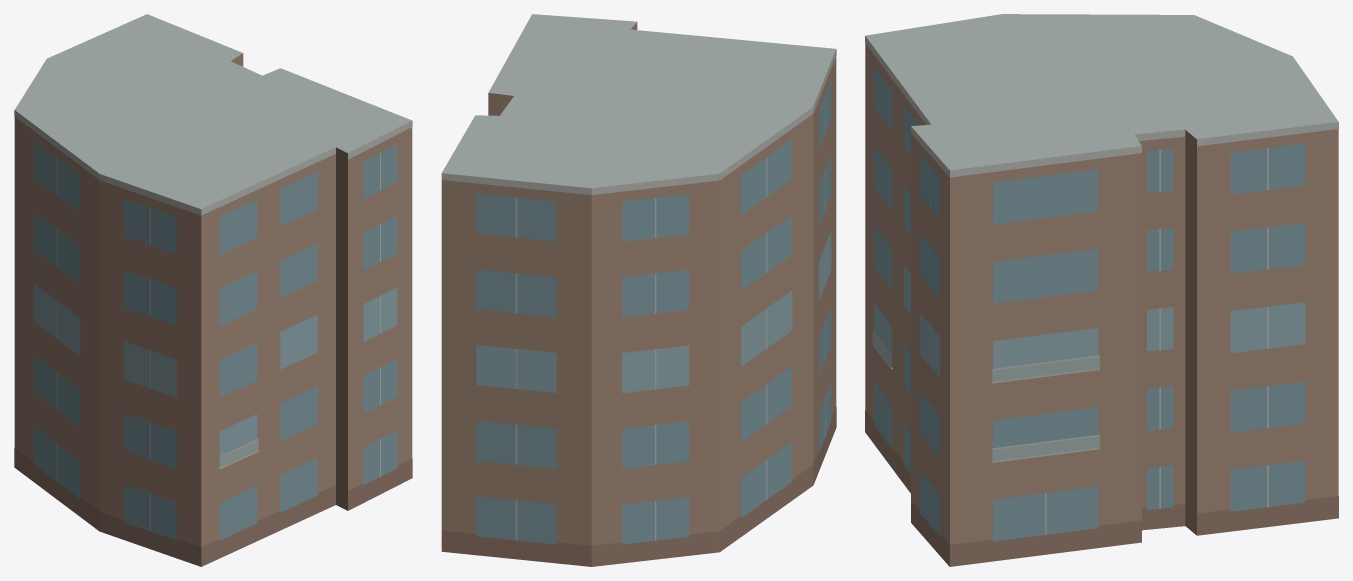
Rendered from survey-upis-32496900.glb.
The picture shows the model from 3 angles, left to right: view 1: azimuth 30°, elevation 25°; view 2: azimuth 150°, elevation 25°; view 3: azimuth 270°, elevation 25°; orthographic projection. The views are drawn at different scales.
Parts seen in each view (by area): view 1: survey-upis-32496900.tmp; view 2: survey-upis-32496900.tmp; view 3: survey-upis-32496900.tmp.
Boxes of the visible parts, x1,y1,x2,y2 form: survey-upis-32496900.tmp: (14, 14, 412, 566); survey-upis-32496900.tmp: (441, 14, 836, 566); survey-upis-32496900.tmp: (865, 14, 1338, 566).
Size of the model in its own units: 11.56 by 13.65 by 14.79.
